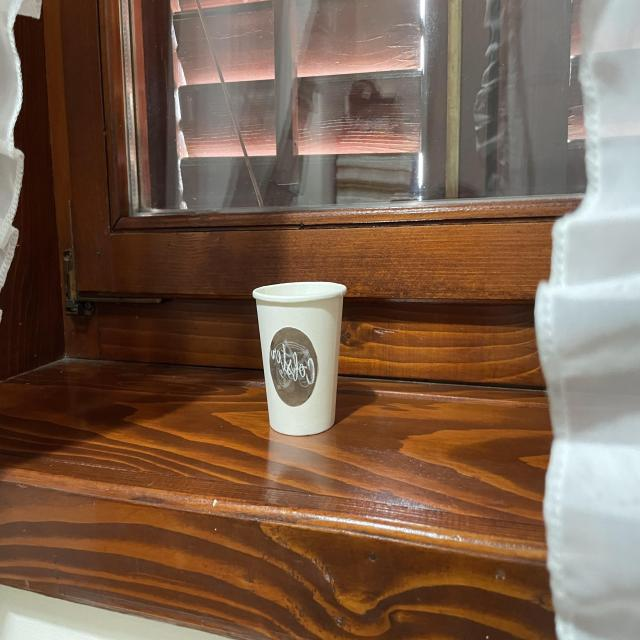small: (252, 275, 348, 435)
